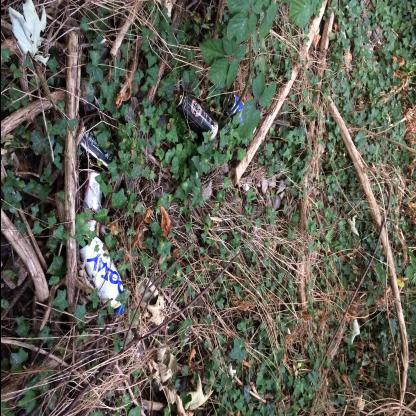metal: (174, 91, 219, 142), (80, 172, 104, 233), (80, 128, 116, 168), (223, 95, 248, 127)
plastik: (80, 237, 126, 317)
